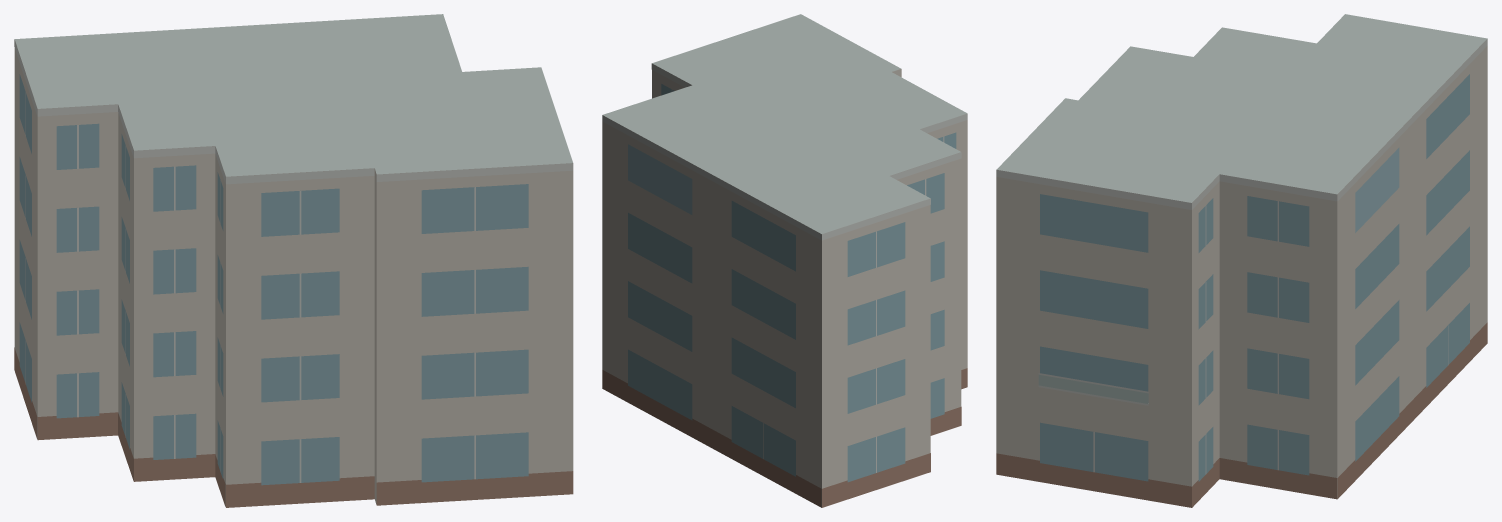
Rendered from survey-upis-32770372.glb.
3 renders of one model, left to right at view 1: azimuth 30°, elevation 25°; view 2: azimuth 150°, elevation 25°; view 3: azimuth 270°, elevation 25°, orthographic. The views are drawn at different scales.
Parts seen in each view (by area): view 1: survey-upis-32770372.tmp; view 2: survey-upis-32770372.tmp; view 3: survey-upis-32770372.tmp.
Boxes of the visible parts, <box> form: survey-upis-32770372.tmp: <box>14,14,573,507</box>; survey-upis-32770372.tmp: <box>602,14,967,507</box>; survey-upis-32770372.tmp: <box>996,14,1487,507</box>.
Size of the model in its own units: 13.97 by 10.5 by 15.34.
